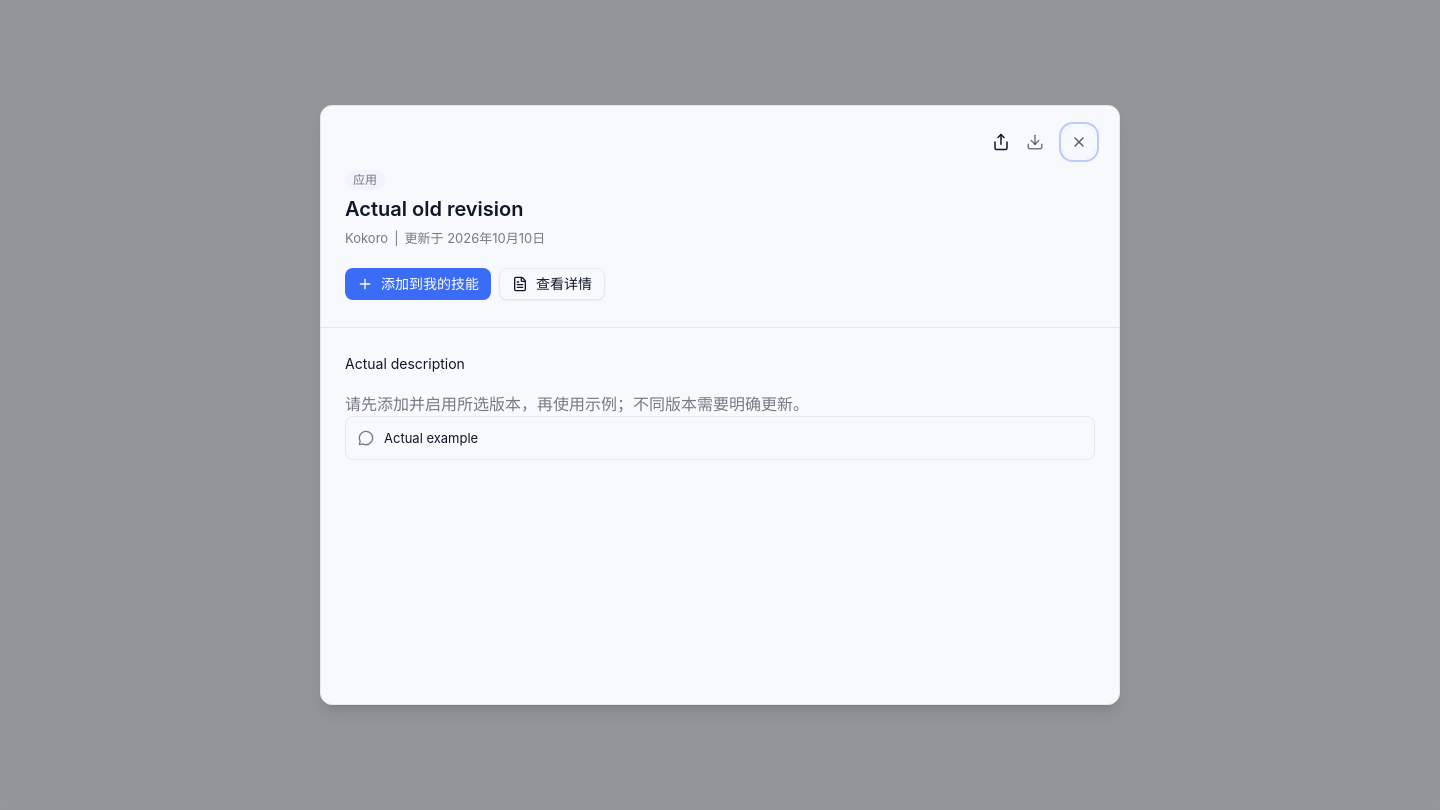
Test case: shows a failed exact download binding in the current dialog without a current-series fallback
Expected: the heading "Actual old revision" is shown, [345,196,524,220]
Click the button named "下载技能": [1035, 142] box [1019,126,1051,158]
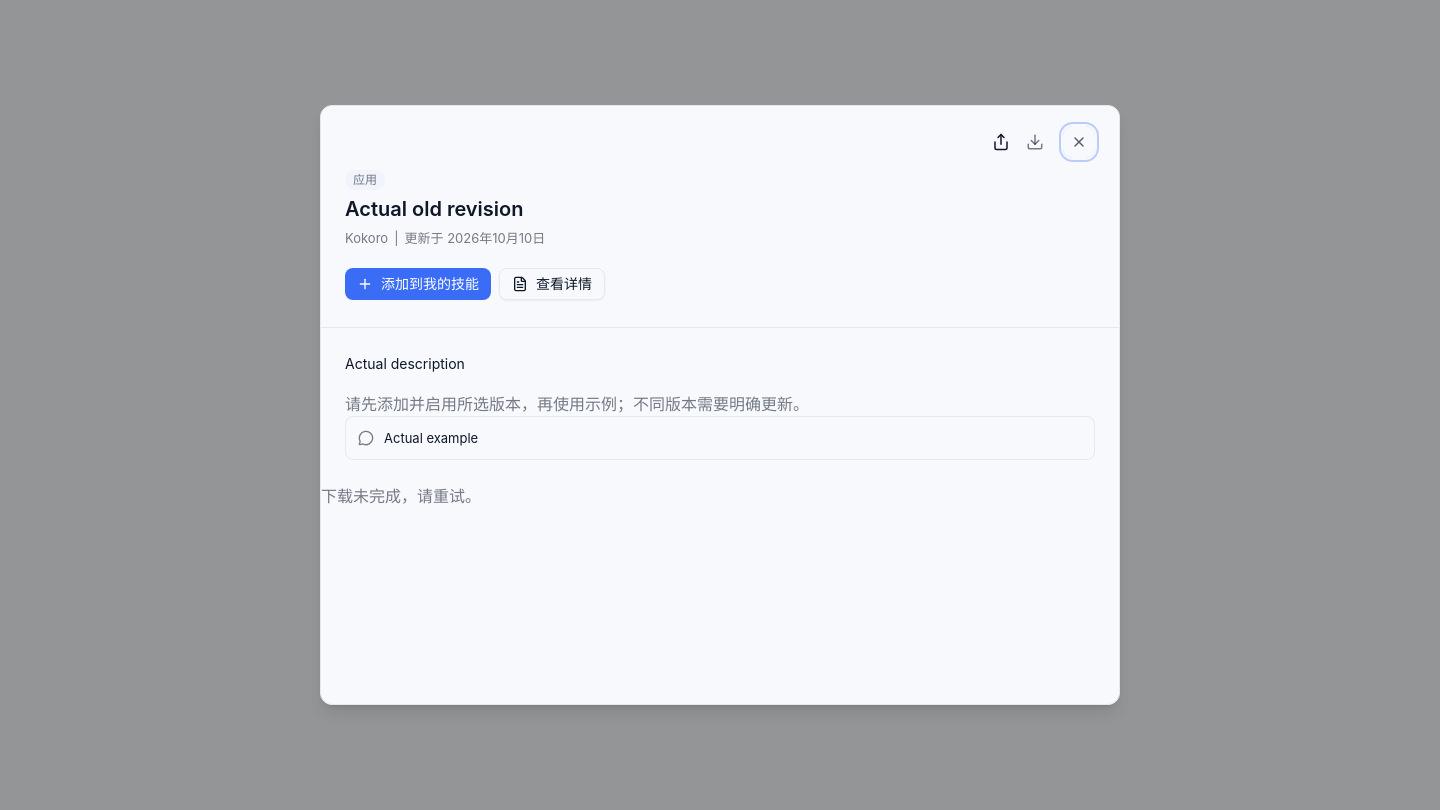
Expected: the heading "Actual old revision" is shown, [345,196,524,220]
Expected: the message reads "下载未完成，请重试。", [321,486,481,506]
